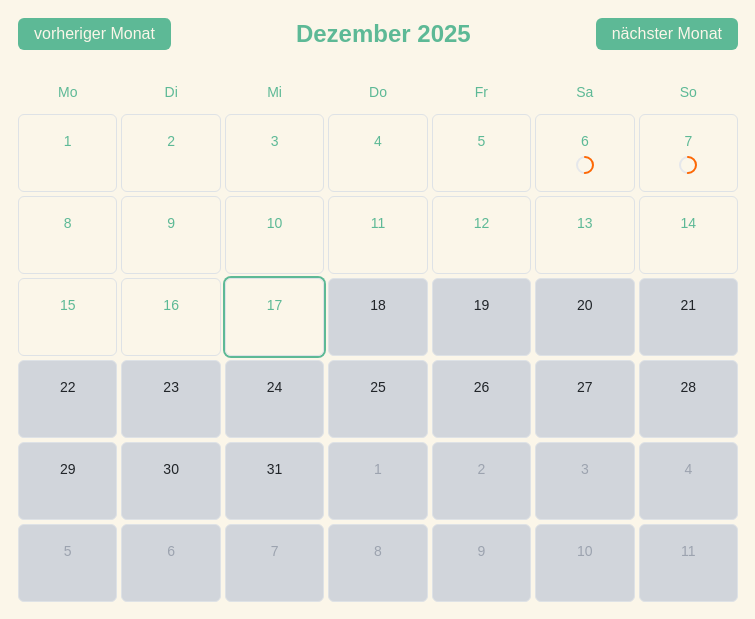
Test: Calender Component › navigates to previous month when previous button is clicked
Click the button "vorheriger Monat".
click(94, 34)  # box [18,18,171,50]
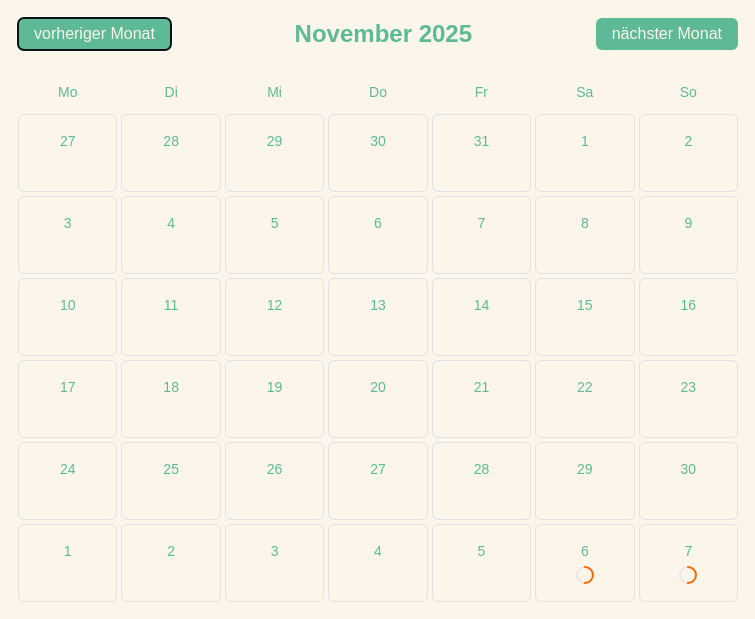
Check: the heading "November 2025" is shown, box [295,18,472,50]
